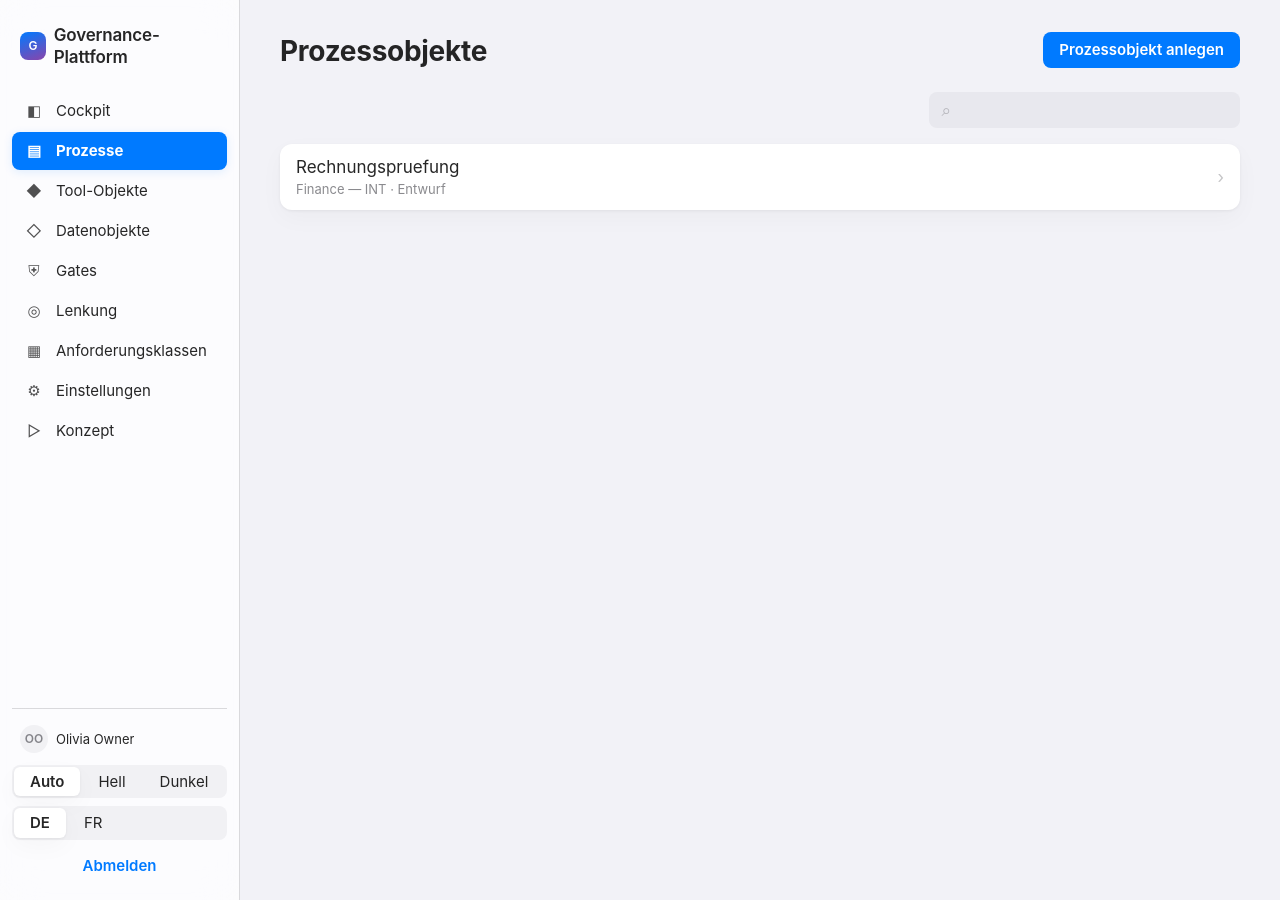
Test: Prozessliste › verlinkt in die Detailansicht
The image size is (1280, 900).
Click the link "Rechnungspruefung Finance — INT · Entwurf ›" at {"x": 378, "y": 167}, box [280,144,1240,210]
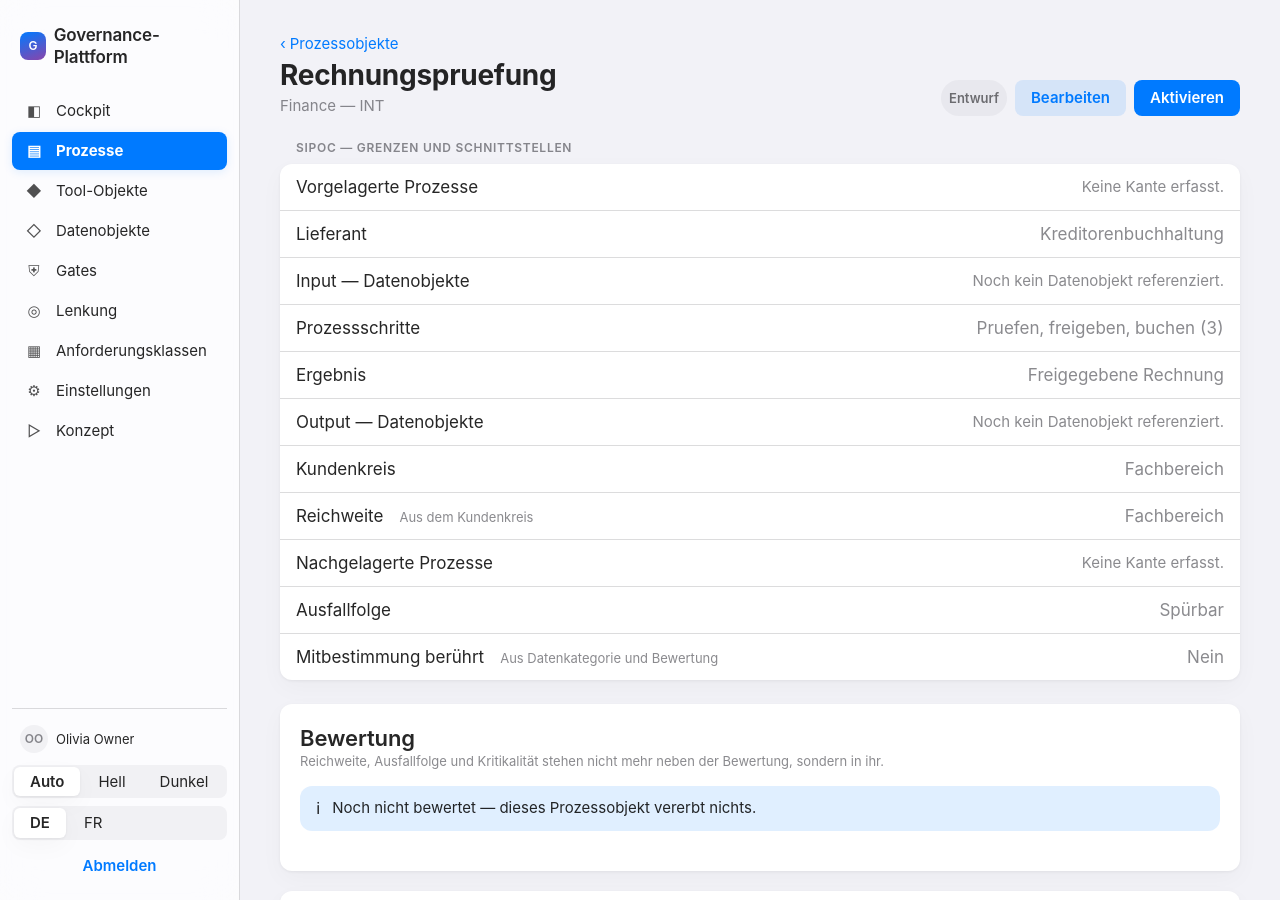
Expected: the heading "Rechnungspruefung" is shown, [280,58,556,92]
